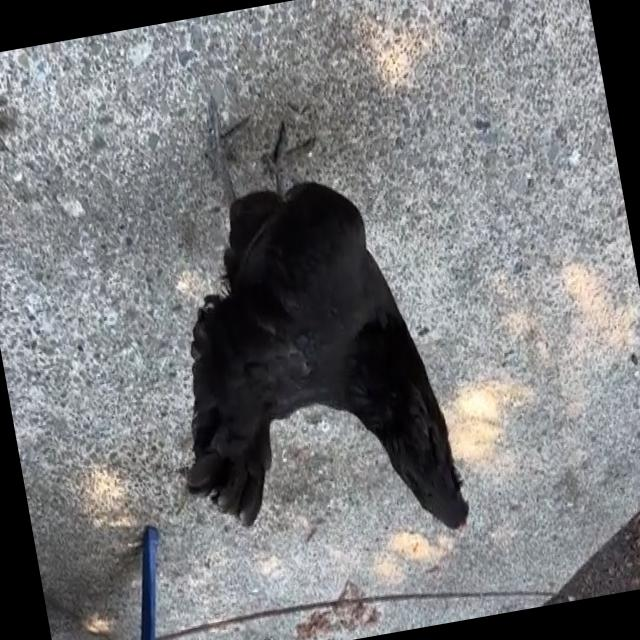Breathing: (120, 58, 475, 579)
